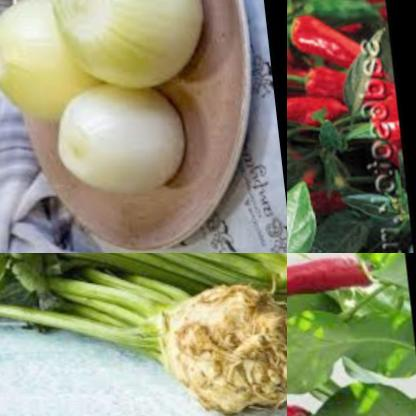celery: (0, 253, 287, 416), (0, 253, 287, 326)
hot pepper: (287, 10, 374, 78), (287, 253, 372, 319), (353, 73, 395, 155), (287, 79, 352, 130), (292, 58, 368, 100), (354, 0, 382, 21)
onion: (24, 74, 218, 198), (27, 0, 210, 85), (0, 0, 100, 130)
